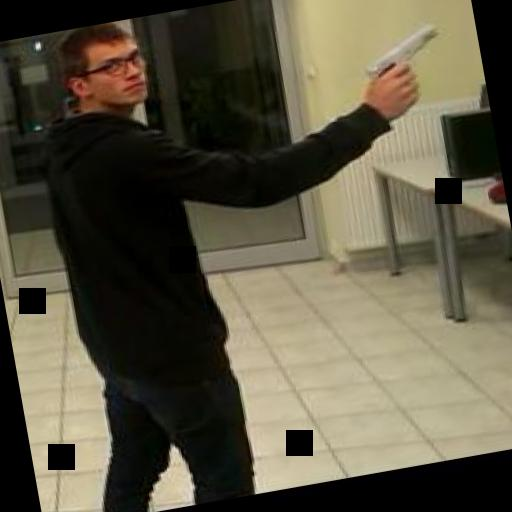Handgun: (351, 17, 451, 111)
